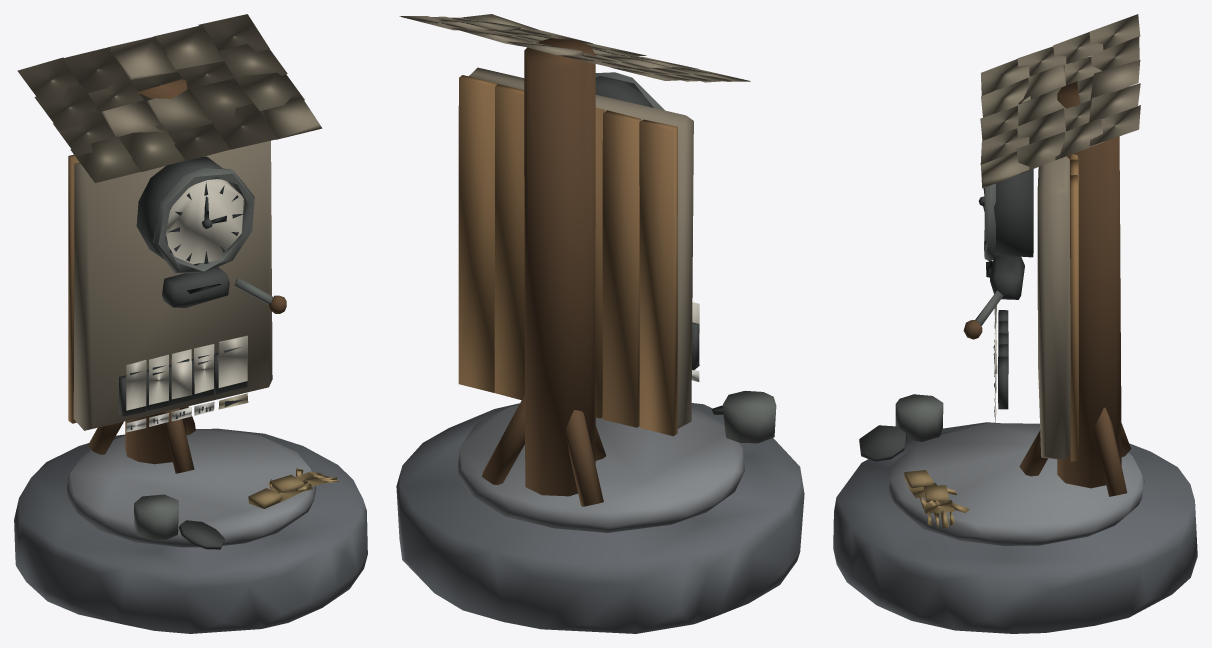
File: clock_post_a_lod2.glb
3 renders of one model, left to right at view 1: azimuth 30°, elevation 25°; view 2: azimuth 150°, elevation 25°; view 3: azimuth 270°, elevation 25°, orthographic. The views are drawn at different scales.
Parts seen in each view (by area): view 1: Surface.001; view 2: Surface.001; view 3: Surface.001.
Boxes of the visible parts, <box> form: Surface.001: <box>14,14,367,633</box>; Surface.001: <box>396,14,804,633</box>; Surface.001: <box>833,14,1197,633</box>.
Bounding box in the file's own units: 1.68 × 2.52 × 1.69.
